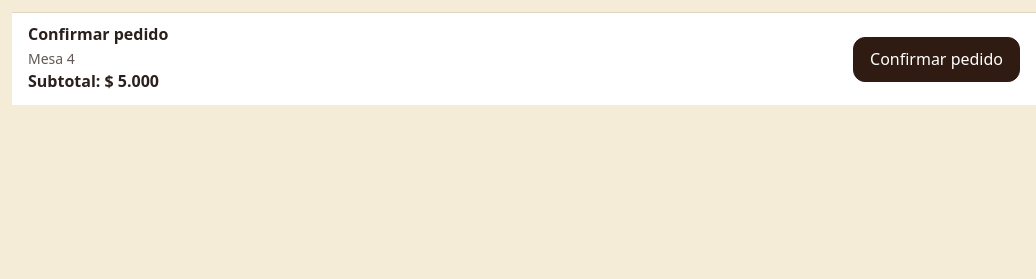
ConfirmarPedido › envía mesa e ítems y muestra número, estado y total
The width and height of the screenshot is (1036, 279).
Click the button "Confirmar pedido". click: click(936, 59)
box: [853,36,1020,82]
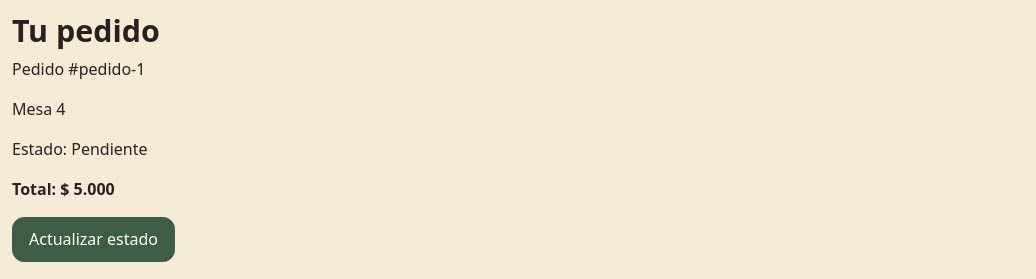
Expected: the text "Total: $ 5.000" is shown, [12,178,115,200]
Now the text "Pedido #pedido-1" is shown, box [12,58,145,80]
Now the text "Estado: Pendiente" is shown, box [12,138,148,160]
